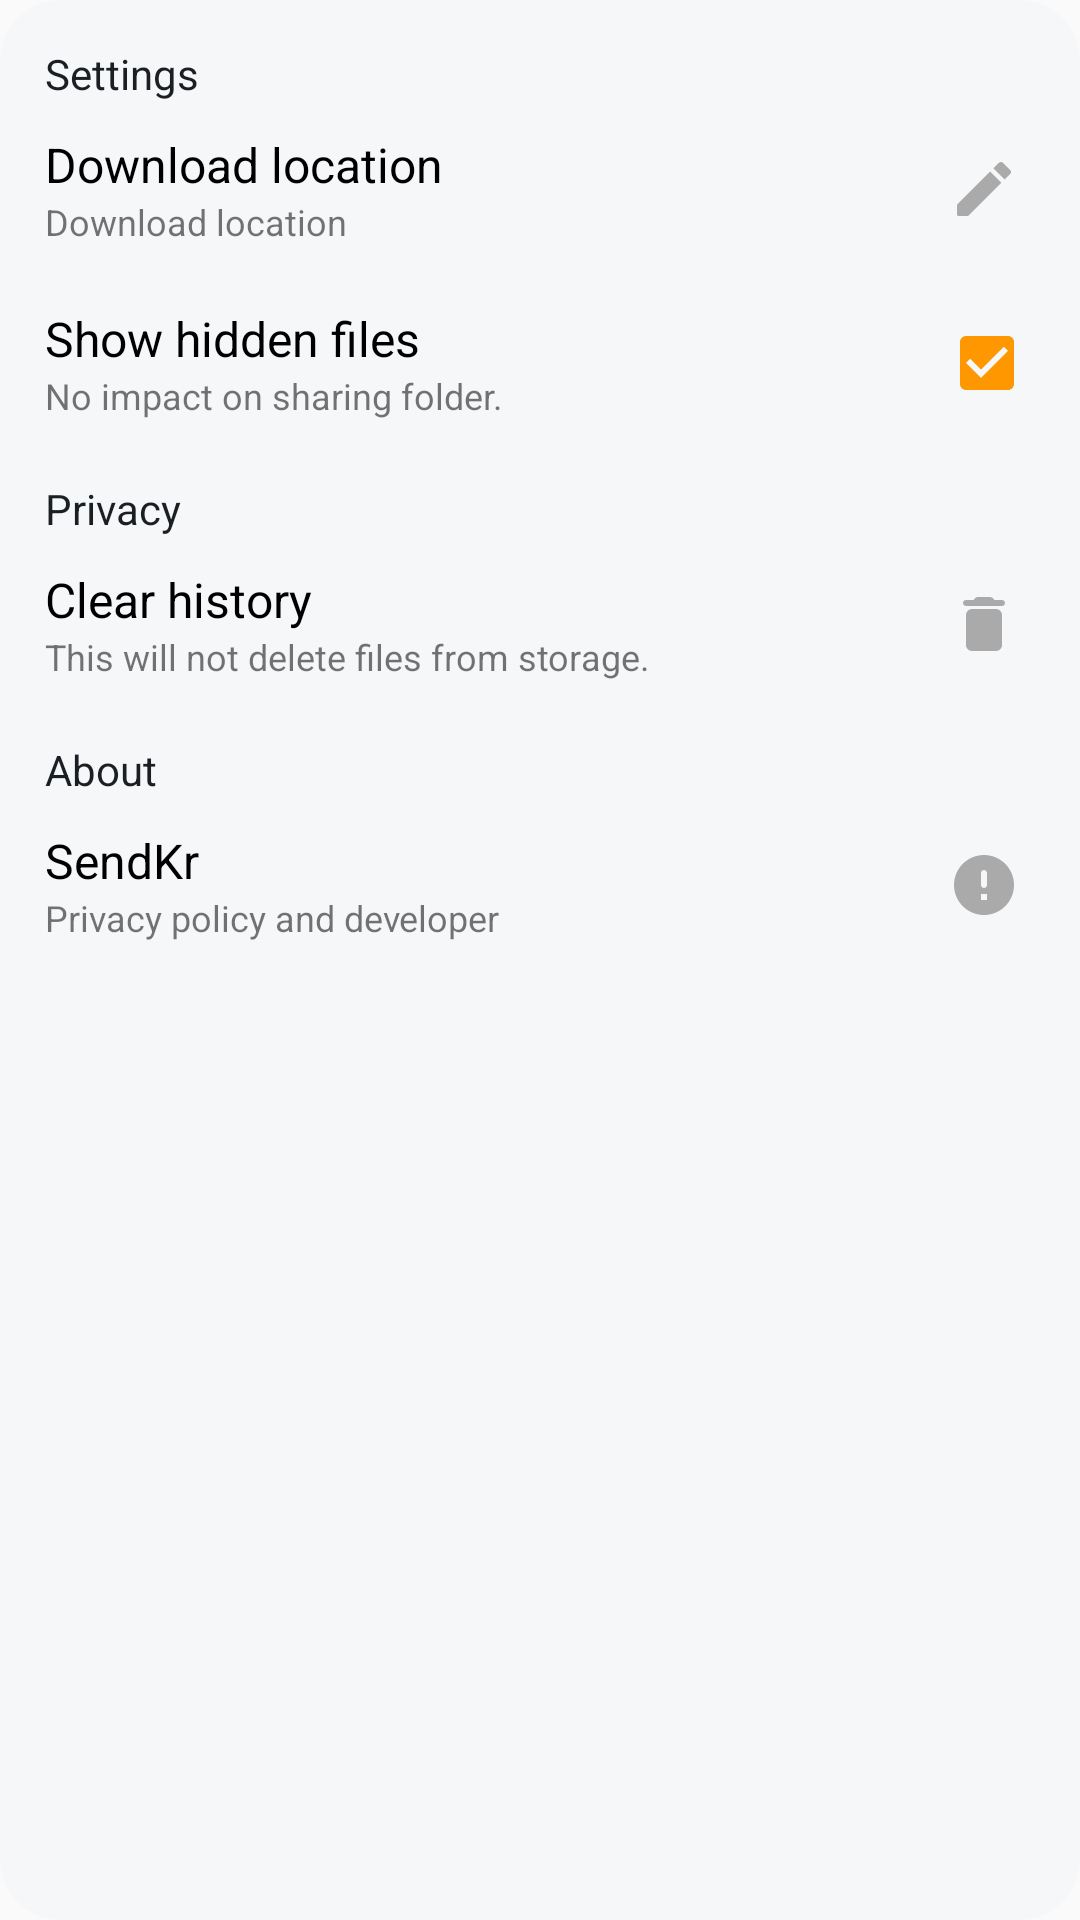

Icons on this 1080*1920 Android screen, each with the point to tap as point (x, y):
delete: point (984, 624)
edit: point (984, 189)
status failed: point (984, 885)
